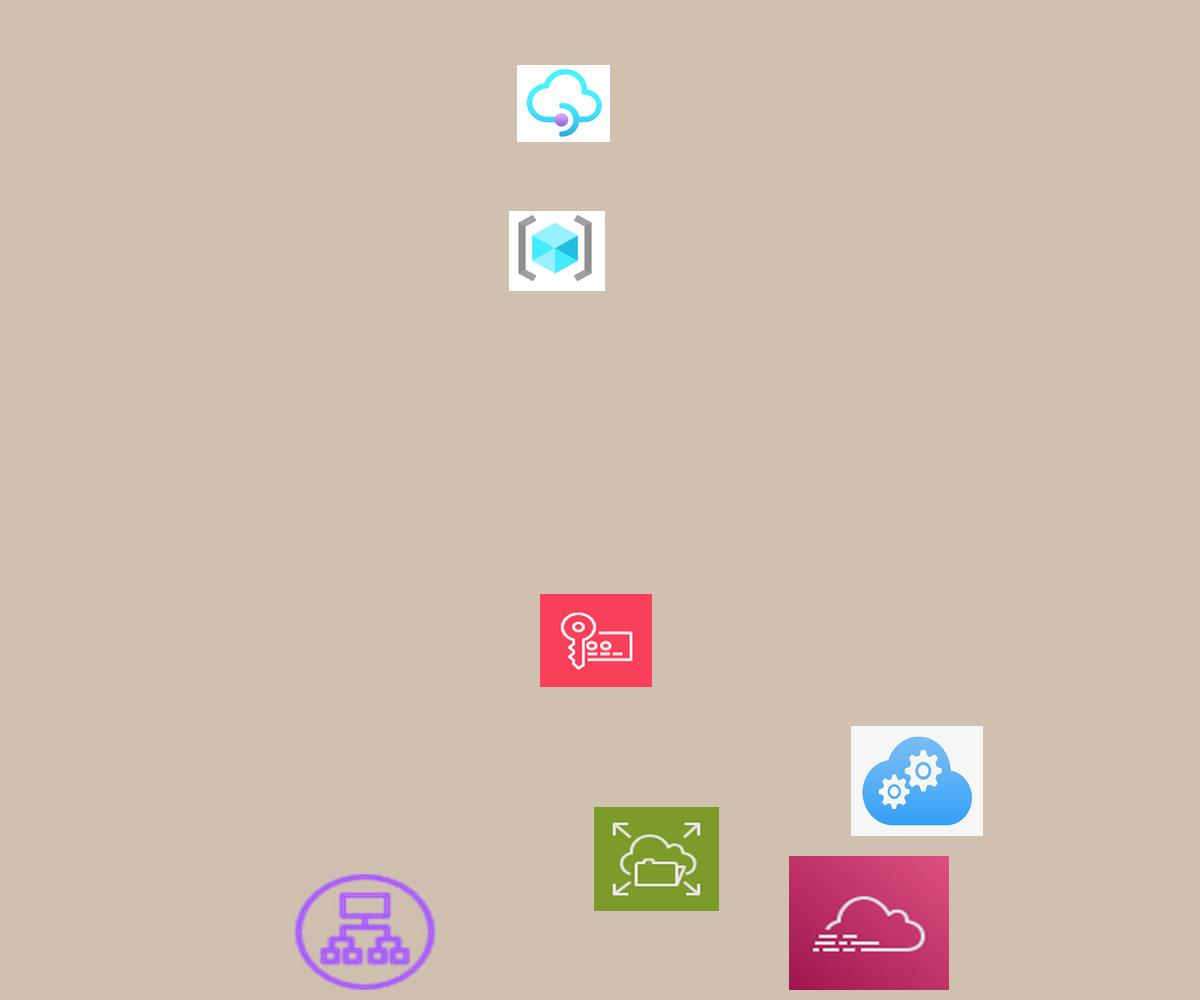AWS-CloudTrail: (789, 856, 949, 990)
AWS-EFS: (594, 807, 719, 911)
AWS-Key-Management-Service: (540, 594, 652, 687)
AWS-Res_Elastic-Load-Balancing_Application-Load-Balancer: (289, 869, 441, 995)
Azure_api_gateway: (517, 65, 610, 142)
Azure_cloud_services: (851, 726, 983, 836)
Azure_resource_group: (509, 211, 605, 291)
